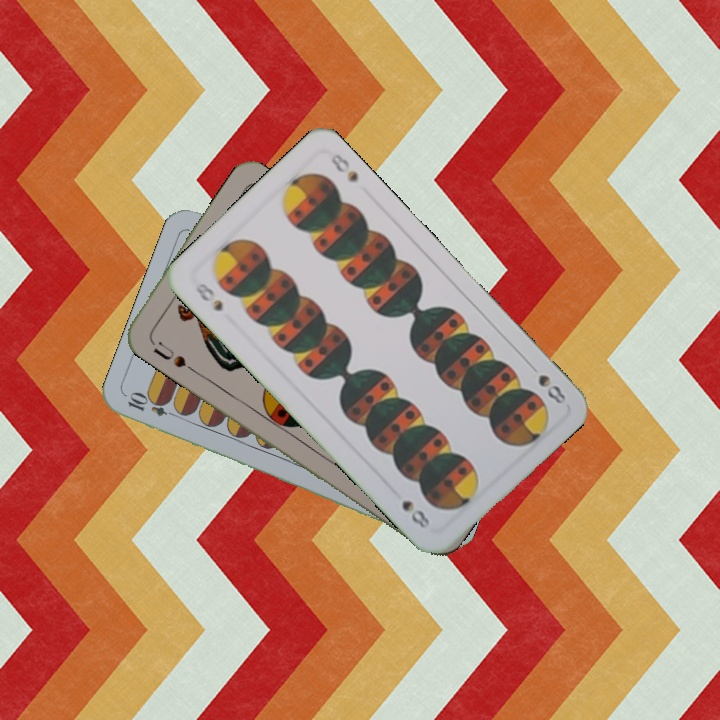E10: (123, 390, 182, 421)
S8: (523, 358, 569, 407), (191, 279, 226, 314)
SU: (145, 334, 189, 370)
